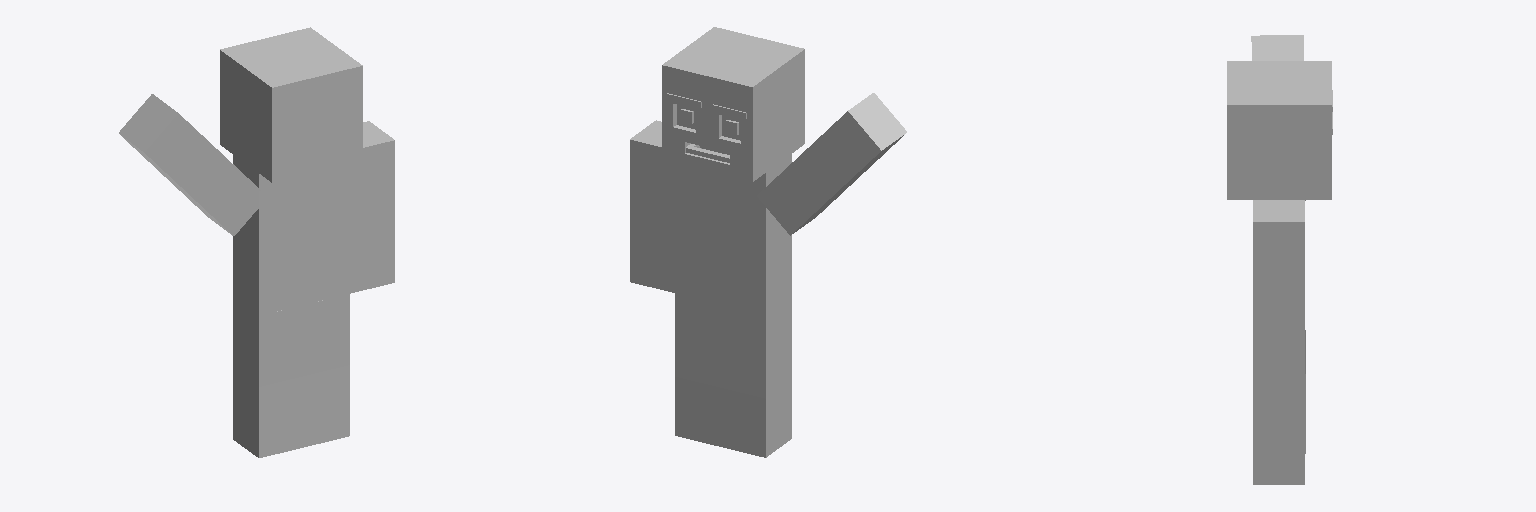
File: steve_animate_000012.obj
3 renders of one model, left to right at view 1: azimuth 30°, elevation 25°; view 2: azimuth 150°, elevation 25°; view 3: azimuth 270°, elevation 25°, orthographic.
Visible parts, largest first — view 1: Mesh.001_Head, Body_Steve_Body.001, Leg_L_Leg_L.001, Arm_L_Arm_L.001, Arm_R_Arm_R.001, Leg_R_Leg_R.001; view 2: Mesh.001_Head, Body_Steve_Body.001, Leg_L_Leg_L.001, Arm_L_Arm_L.001, Arm_R_Arm_R.001, Leg_R_Leg_R.001; view 3: Mesh.001_Head, Arm_R_Arm_R.001, Leg_R_Leg_R.001, Arm_L_Arm_L.001.
Boxes of the visible parts, x1=… form: Mesh.001_Head: x1=220, y1=27, x2=362, y2=182; Body_Steve_Body.001: x1=233, y1=155, x2=349, y2=315; Leg_L_Leg_L.001: x1=233, y1=297, x2=303, y2=457; Arm_L_Arm_L.001: x1=119, y1=94, x2=260, y2=235; Arm_R_Arm_R.001: x1=350, y1=121, x2=394, y2=293; Leg_R_Leg_R.001: x1=304, y1=294, x2=349, y2=446; Mesh.001_Head: x1=662, y1=27, x2=804, y2=181; Body_Steve_Body.001: x1=675, y1=154, x2=791, y2=314; Leg_L_Leg_L.001: x1=720, y1=297, x2=791, y2=457; Arm_L_Arm_L.001: x1=757, y1=93, x2=906, y2=235; Arm_R_Arm_R.001: x1=630, y1=120, x2=674, y2=292; Leg_R_Leg_R.001: x1=675, y1=293, x2=719, y2=446; Mesh.001_Head: x1=1227, y1=61, x2=1331, y2=199; Arm_R_Arm_R.001: x1=1253, y1=200, x2=1304, y2=364; Leg_R_Leg_R.001: x1=1253, y1=352, x2=1305, y2=484; Arm_L_Arm_L.001: x1=1251, y1=35, x2=1305, y2=200.
Size of the model in its own units: 4.43 by 6.4 by 1.62.